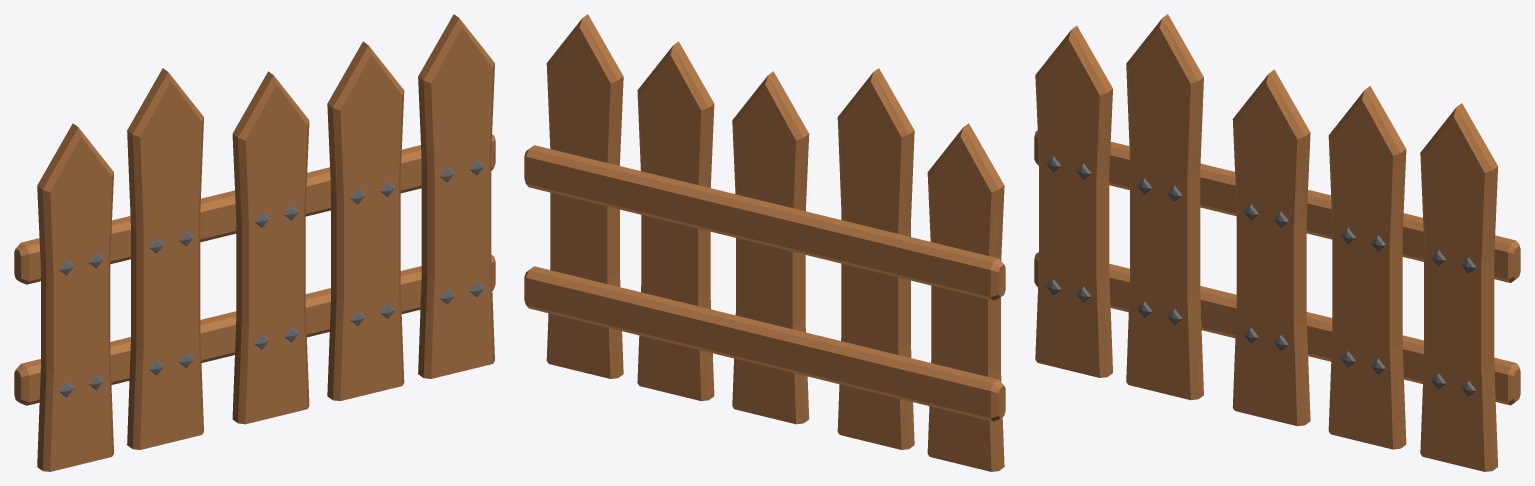
File: Fence_1.glb
3 renders of one model, left to right at view 1: azimuth 30°, elevation 25°; view 2: azimuth 150°, elevation 25°; view 3: azimuth 330°, elevation 25°, orthographic.
Size of the model in its own units: 49.58 by 36.78 by 4.35.
Materials: 1 (1 with a texture image).
